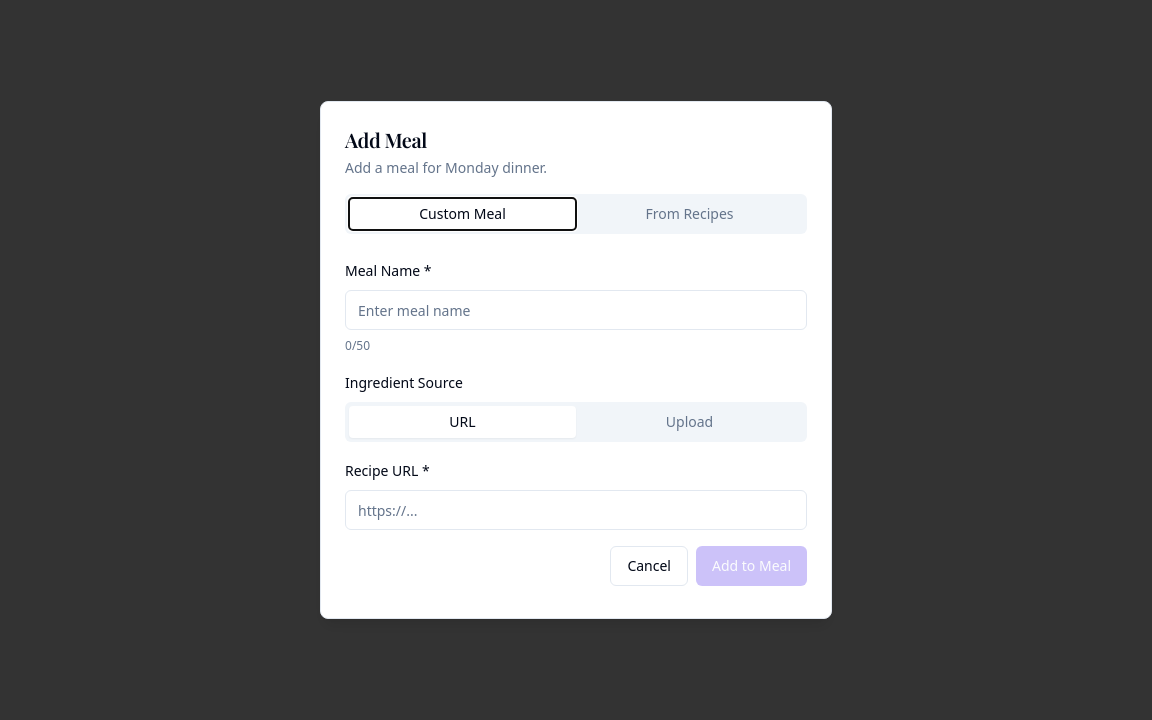
Test: AddMealDialog › switches to From Recipes tab
This screenshot has width=1152, height=720.
Step 1. Click the button "From Recipes" → (690, 214), box [576,198,803,230]
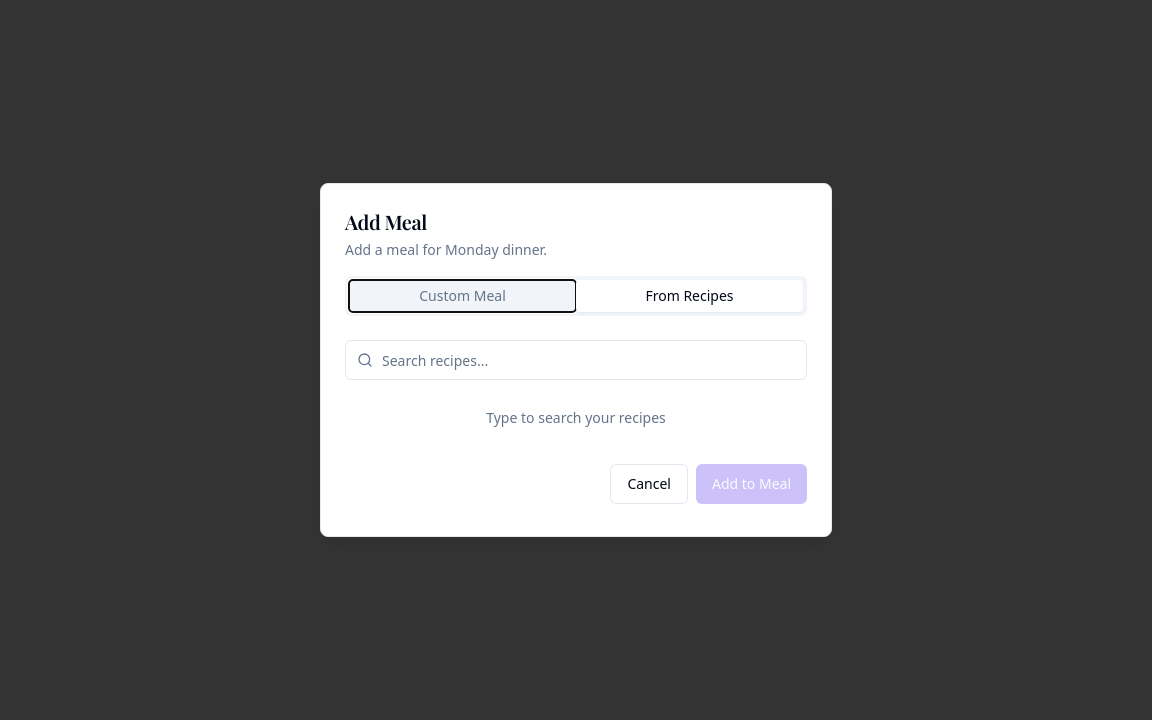
Expected: the field with placeholder "Search recipes..." is shown, [345,340,807,380]
Expected: the text "Type to search your recipes" is shown, [486,408,666,427]
